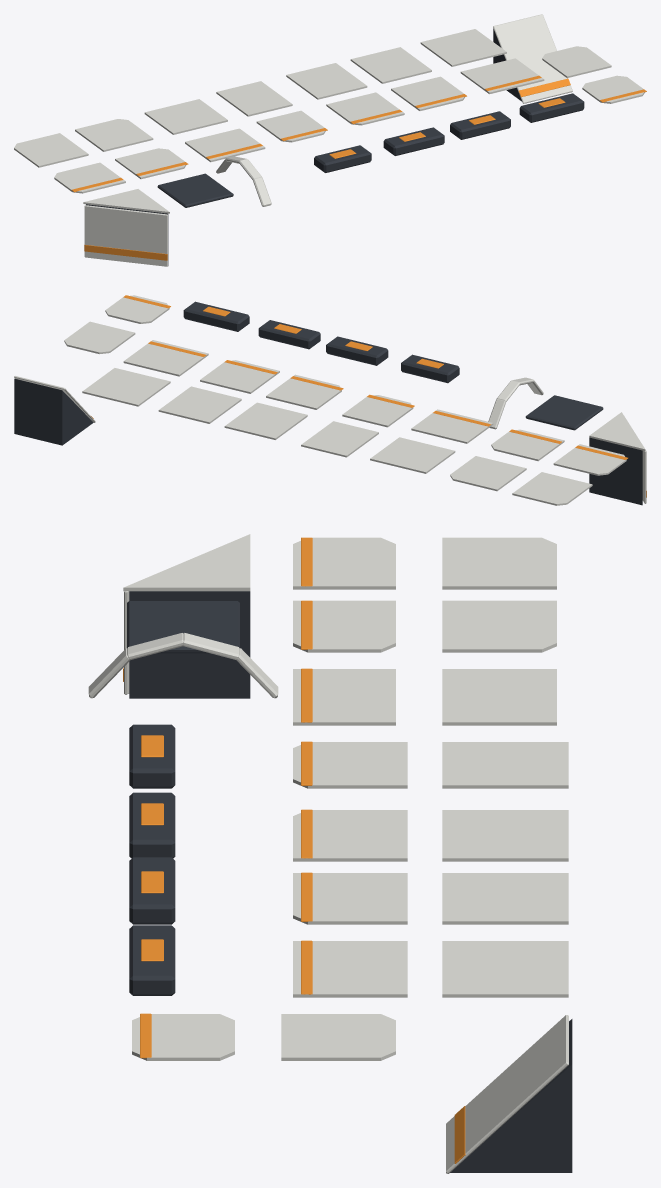
Rendered from R4H_HullKit.glb.
3 renders of one model, top to bottom at view 1: azimuth 30°, elevation 25°; view 2: azimuth 150°, elevation 25°; view 3: azimuth 270°, elevation 25°, orthographic. The views are drawn at different scales.
Parts seen in each view (by area): view 1: cheek, ramp, plate_15, plate_07, plate_11, plate_14, plate_13, plate_03, plate_05, plate_10, plate_06, plate_12 (+12 smaller); view 2: ramp, cheek, plate_15, plate_07, plate_11, plate_14, plate_13, plate_03, plate_06, plate_09, plate_10, plate_05 (+12 smaller); view 3: ramp, cheek, plate_15, plate_13, plate_14, plate_07, plate_11, plate_10, plate_09, plate_12, plate_05, plate_06 (+12 smaller).
Part boxes in pixels (bbox=[...]): cheek: bbox=[83, 189, 169, 266]; ramp: bbox=[493, 14, 572, 103]; plate_15: bbox=[420, 29, 506, 66]; plate_07: bbox=[460, 58, 544, 94]; plate_11: bbox=[144, 99, 227, 134]; plate_14: bbox=[350, 47, 431, 83]; plate_13: bbox=[286, 63, 367, 99]; plate_03: bbox=[185, 128, 265, 162]; plate_05: bbox=[326, 92, 404, 125]; plate_10: bbox=[75, 119, 153, 151]; plate_06: bbox=[391, 76, 466, 110]; plate_12: bbox=[216, 81, 292, 116]; ramp: bbox=[14, 376, 95, 445]; cheek: bbox=[589, 412, 646, 505]; plate_15: bbox=[82, 368, 170, 406]; plate_07: bbox=[123, 340, 208, 376]; plate_11: bbox=[370, 437, 455, 473]; plate_14: bbox=[158, 386, 241, 423]; plate_13: bbox=[224, 402, 307, 439]; plate_03: bbox=[411, 409, 493, 443]; plate_06: bbox=[200, 360, 279, 393]; plate_09: bbox=[512, 472, 592, 505]; plate_10: bbox=[450, 456, 526, 491]; plate_05: bbox=[266, 374, 343, 409]; ramp: bbox=[446, 1015, 572, 1173]; cheek: bbox=[123, 534, 250, 698]; plate_15: bbox=[442, 941, 568, 997]; plate_13: bbox=[442, 810, 568, 861]; plate_14: bbox=[442, 873, 568, 924]; plate_07: bbox=[293, 940, 407, 997]; plate_11: bbox=[442, 669, 556, 725]; plate_10: bbox=[442, 600, 556, 652]; plate_09: bbox=[442, 537, 556, 589]; plate_12: bbox=[442, 742, 568, 788]; plate_05: bbox=[293, 809, 407, 861]; plate_06: bbox=[293, 872, 407, 924].
Size of the model in its own units: 5.41 by 0.7327 by 2.1.
